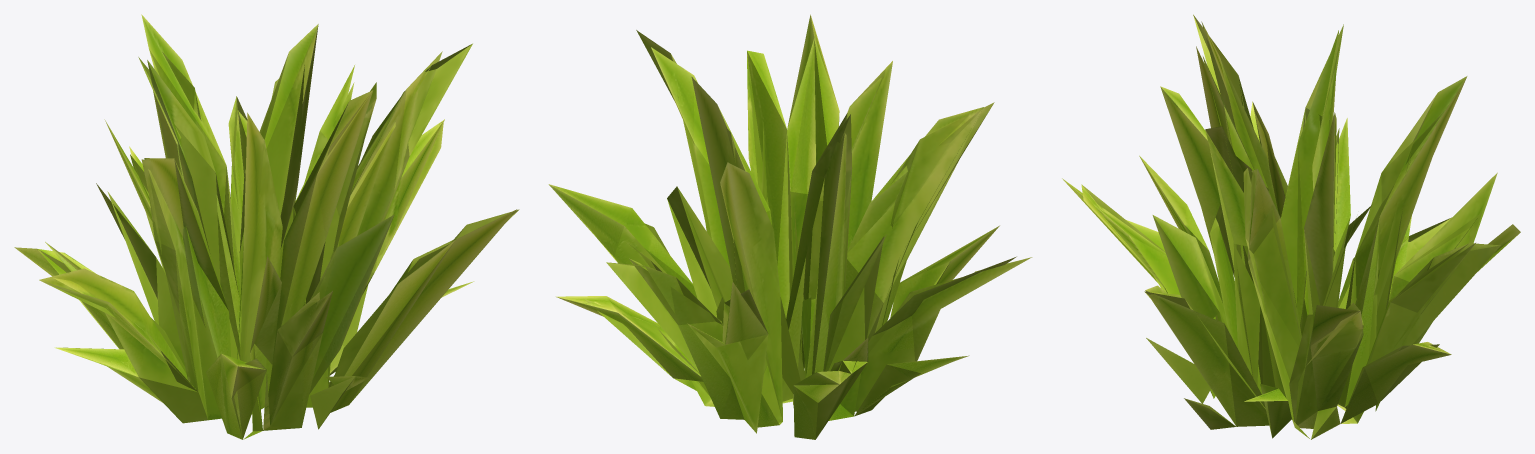
Rendered from grass_tuft.glb.
The picture shows the model from 3 angles, left to right: view 1: azimuth 30°, elevation 25°; view 2: azimuth 150°, elevation 25°; view 3: azimuth 270°, elevation 25°; orthographic projection. The views are drawn at different scales.
Parts seen in each view (by area): view 1: geometry_0; view 2: geometry_0; view 3: geometry_0.
Boxes of the visible parts, bbox=[...] form: geometry_0: bbox=[14, 14, 519, 439]; geometry_0: bbox=[548, 14, 1032, 439]; geometry_0: bbox=[1062, 14, 1520, 439].
Bounding box in the file's own units: 0.4162 × 0.3 × 0.3737.
1 material, 1 textured.
